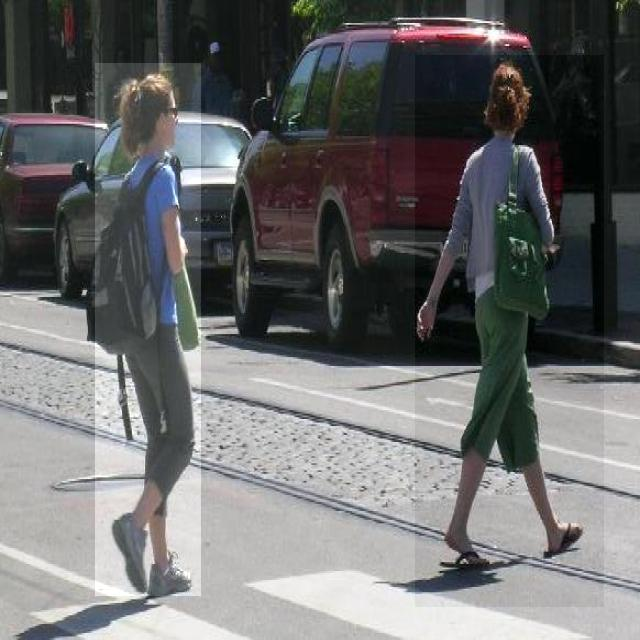with scooter: (415, 55, 604, 607), (95, 63, 201, 596)
